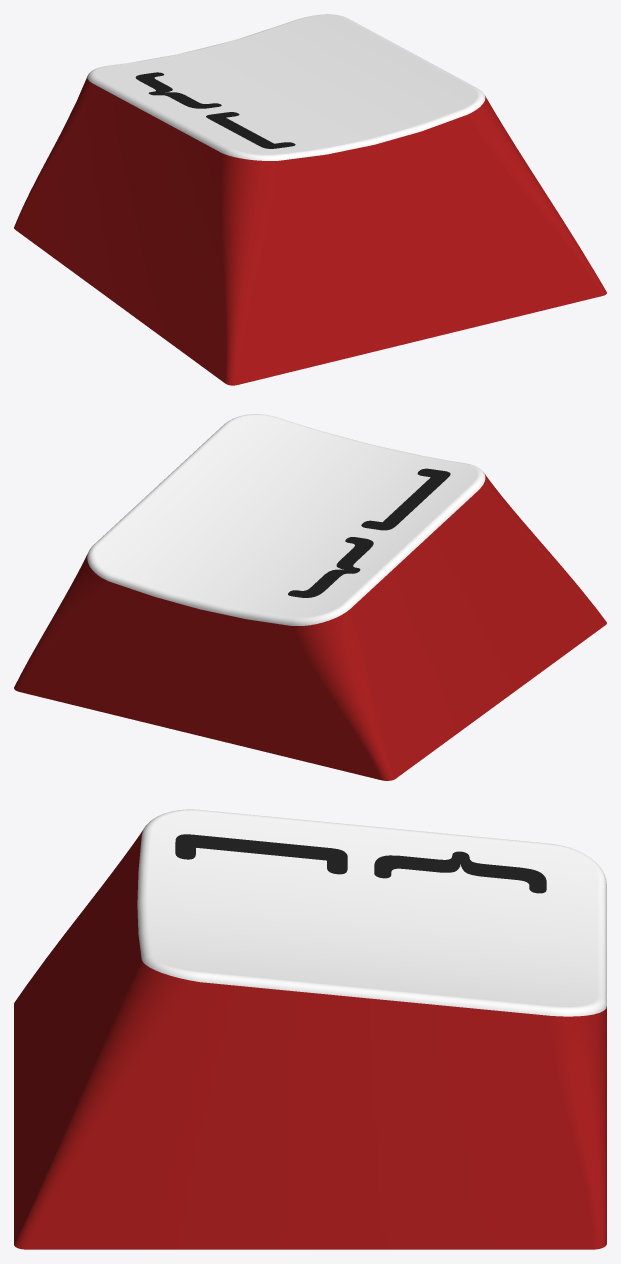
Rendered from Open Brackets.fbx.
3 views of the same model, one above another, from view 1: azimuth 30°, elevation 25°; view 2: azimuth 150°, elevation 25°; view 3: azimuth 270°, elevation 25° (orthographic). The views are drawn at different scales.
Parts seen in each view (by area): view 1: Body1; view 2: Body1; view 3: Body1.
Boxes of the visible parts, box(x1,y1,x2,y2) form: Body1: box(14, 14, 606, 385); Body1: box(14, 414, 606, 780); Body1: box(14, 809, 606, 1249).
Size of the model in its own units: 18 by 7.85 by 18.
